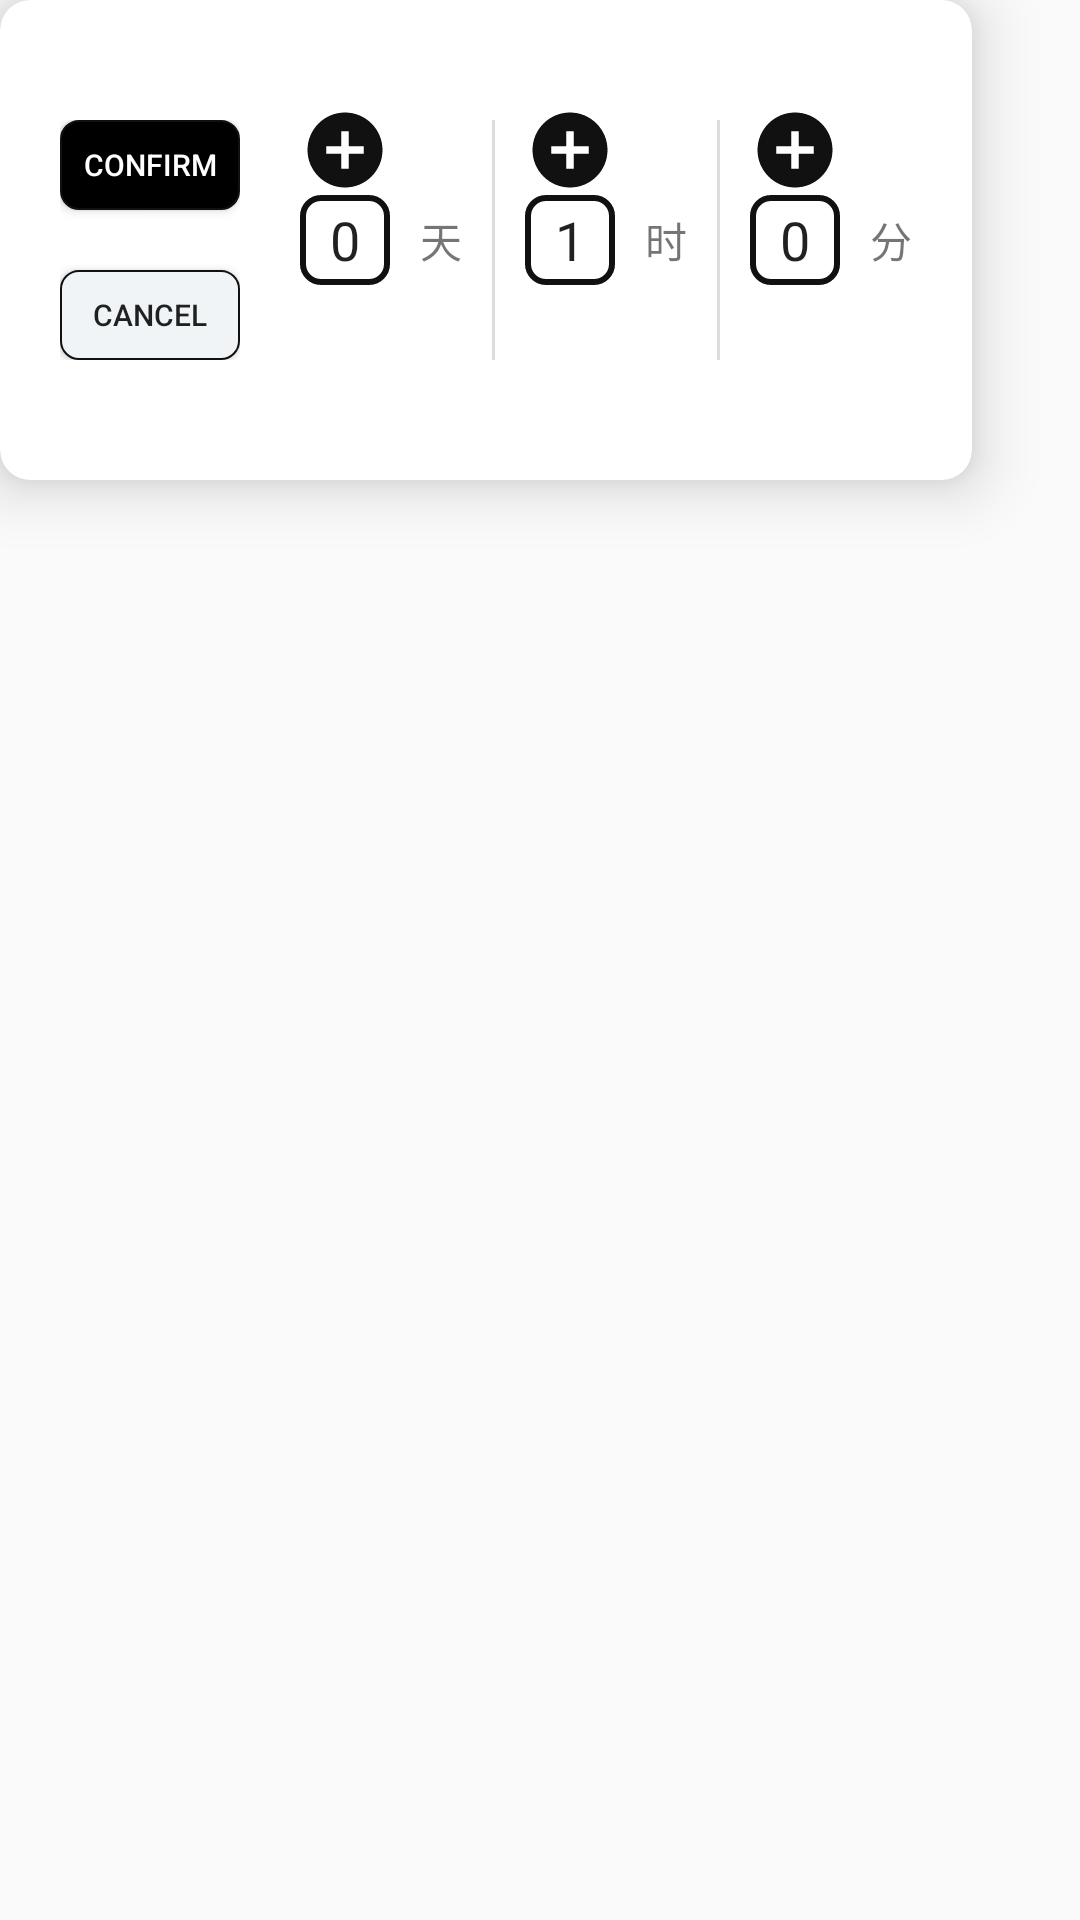

Icons on this 1080px x 1920px Android screen, each with the point to tap as [x,y]:
add circle: [345,150], [570,150], [795,150]
